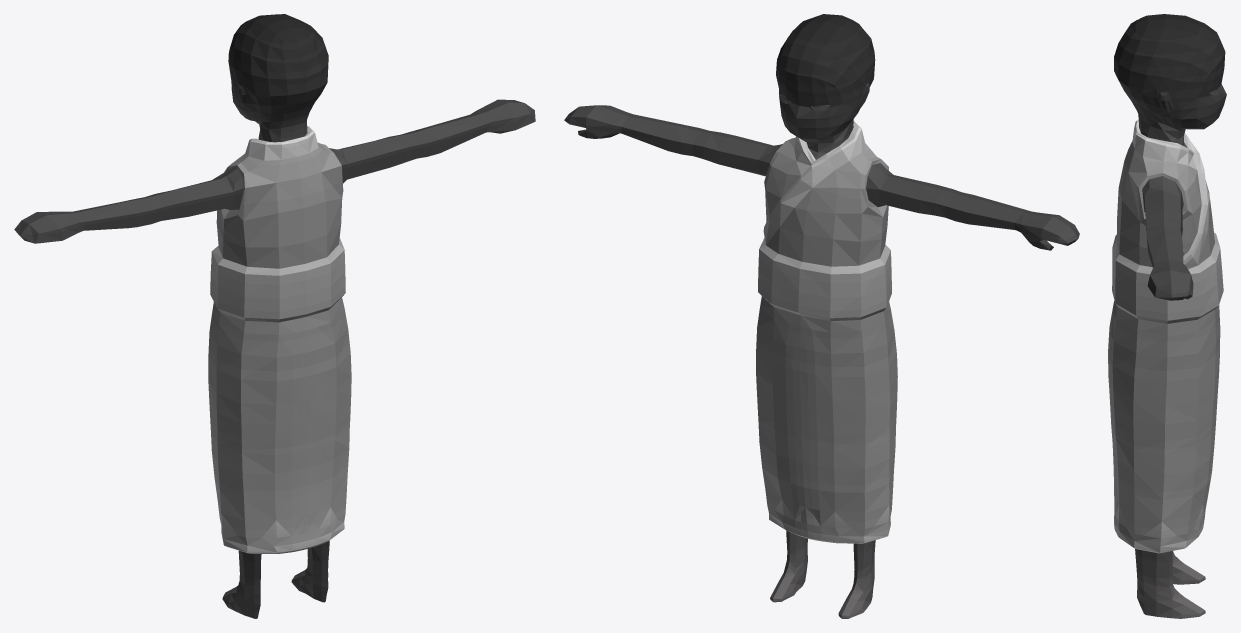
The model's file is CharSkyKid_Body_AP20Robe.glb.
3 renders of one model, left to right at view 1: azimuth 30°, elevation 25°; view 2: azimuth 150°, elevation 25°; view 3: azimuth 270°, elevation 25°, orthographic.
Visible parts, largest first — view 1: CharSkyKid_Body_AP20Robe; view 2: CharSkyKid_Body_AP20Robe; view 3: CharSkyKid_Body_AP20Robe.
Boxes of the visible parts, x1=… form: CharSkyKid_Body_AP20Robe: x1=14, y1=14, x2=535, y2=618; CharSkyKid_Body_AP20Robe: x1=564, y1=14, x2=1079, y2=618; CharSkyKid_Body_AP20Robe: x1=1108, y1=14, x2=1226, y2=618.
Bounding box in the file's own units: 13.83 × 14.94 × 2.78.
Materials: 1 (1 with a texture image).
